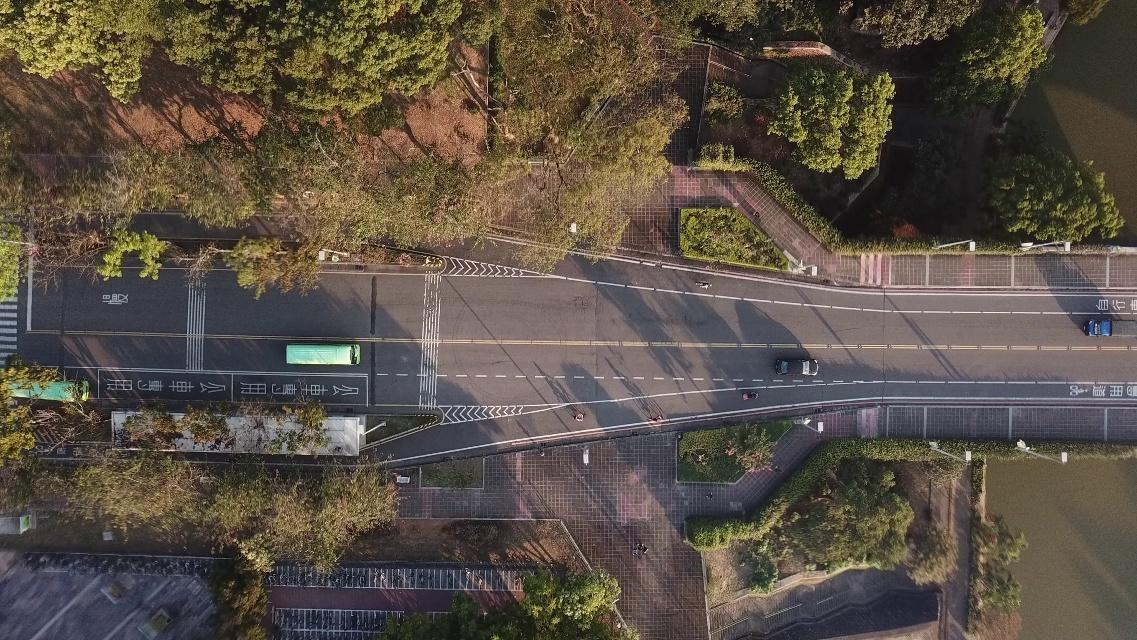Bus: (6, 379, 87, 400), (288, 344, 360, 364)
Car: (775, 358, 819, 376)
